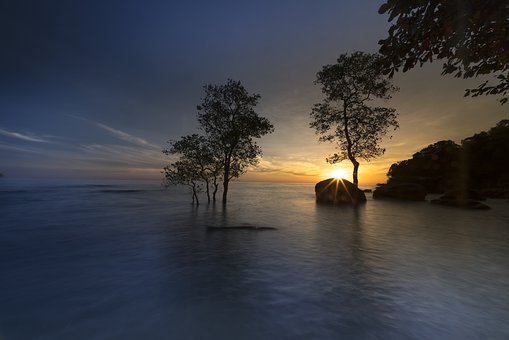sea: (10, 182, 505, 340)
sky: (6, 6, 496, 172)
tree: (158, 82, 258, 214), (308, 47, 389, 203)
